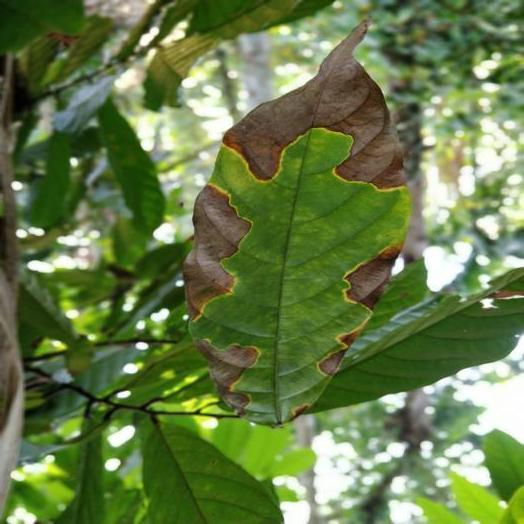Potassium: (185, 23, 410, 424)
